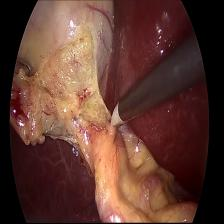Grasper: (15, 52, 36, 82)
Hook: (105, 94, 128, 137)
